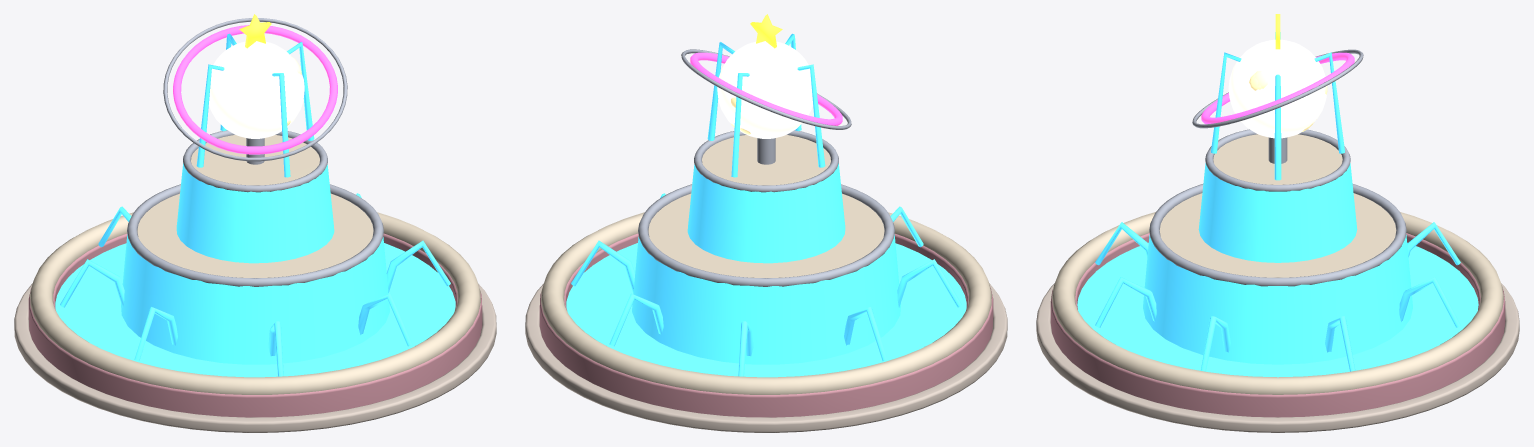
Rendered from mall_fountain.glb.
3 renders of one model, left to right at view 1: azimuth 30°, elevation 25°; view 2: azimuth 150°, elevation 25°; view 3: azimuth 270°, elevation 25°, orthographic.
Parts seen in each view (by area): view 1: Fountain; view 2: Fountain; view 3: Fountain.
Part boxes in pixels (box(x1,y1,x2,y2)): Fountain: box(14, 14, 496, 432); Fountain: box(525, 14, 1007, 432); Fountain: box(1036, 14, 1519, 432).
Bounding box in the file's own units: 8.3 × 6.02 × 8.3.
